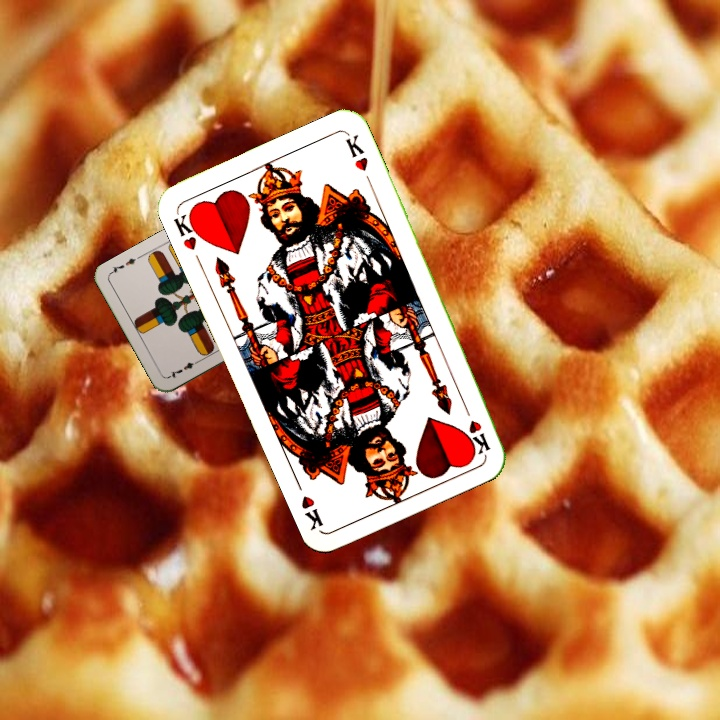E7: (165, 355, 203, 380)
HK: (458, 398, 493, 456), (169, 206, 206, 253)
